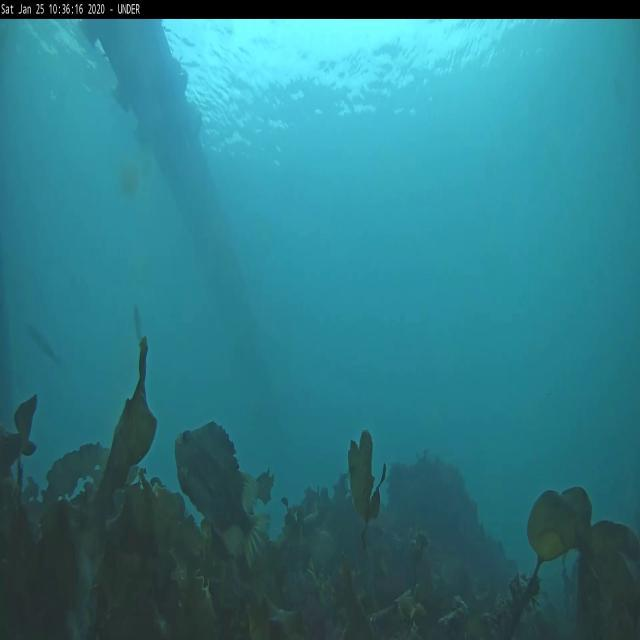fish: (176, 421, 271, 567), (28, 326, 55, 360), (132, 298, 141, 346)
